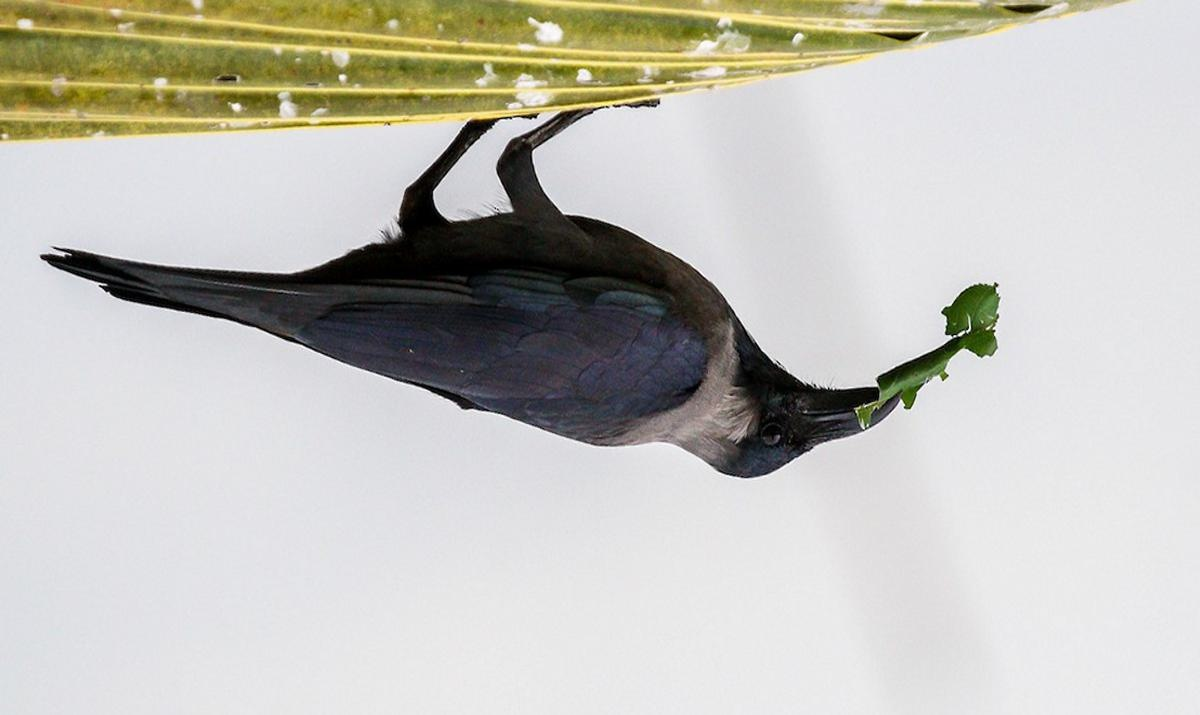crow: (36, 125, 946, 483)
